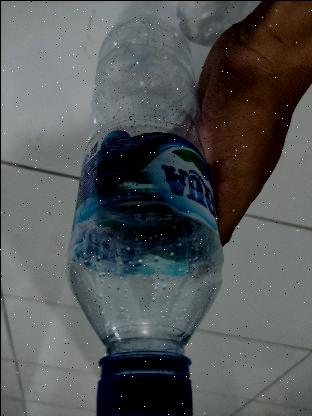Plastic Bottle: (47, 0, 249, 416)
